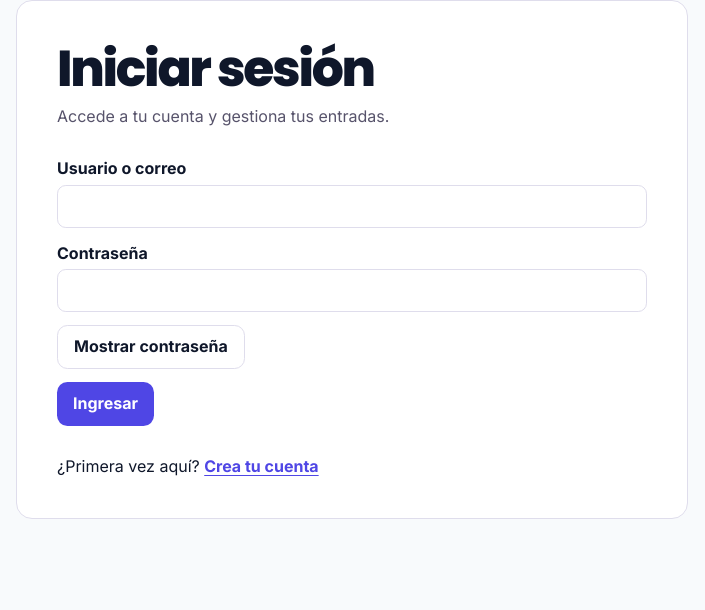
Test: distingue un 401 al cargar el perfil de una contraseña rechazada
In the field labelled "Usuario o correo": (352, 206) [57, 185, 647, 228], type "pulse"
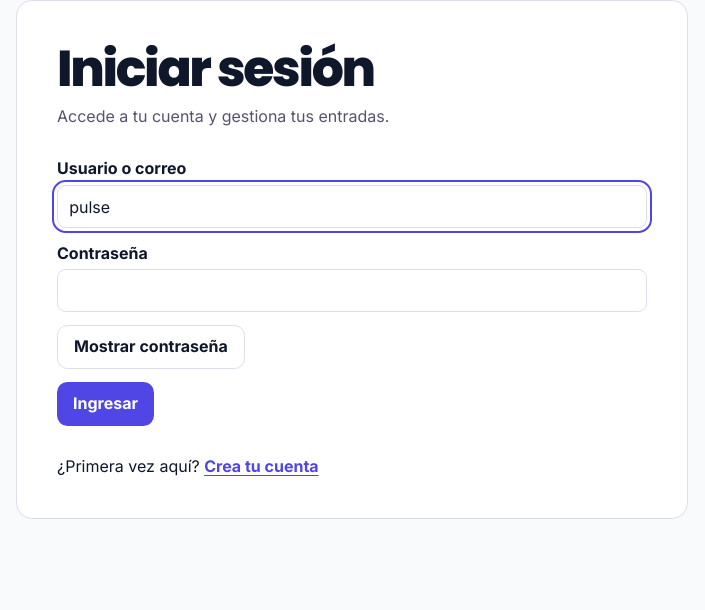
In the password field labelled "Contraseña": (352, 291) [57, 270, 647, 312], type "secret"
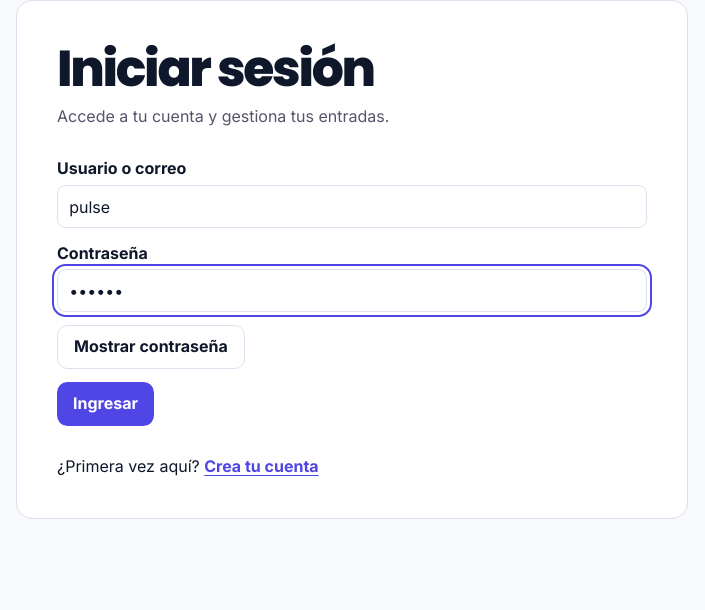
Click the button "Ingresar": (106, 404) [57, 382, 154, 426]
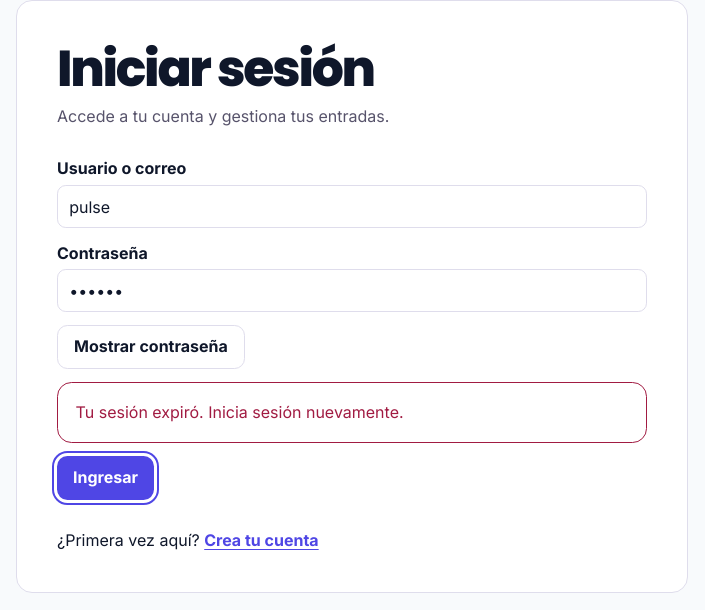
Result: the message shows "Tu sesión expiró" at [76, 402, 404, 422]
